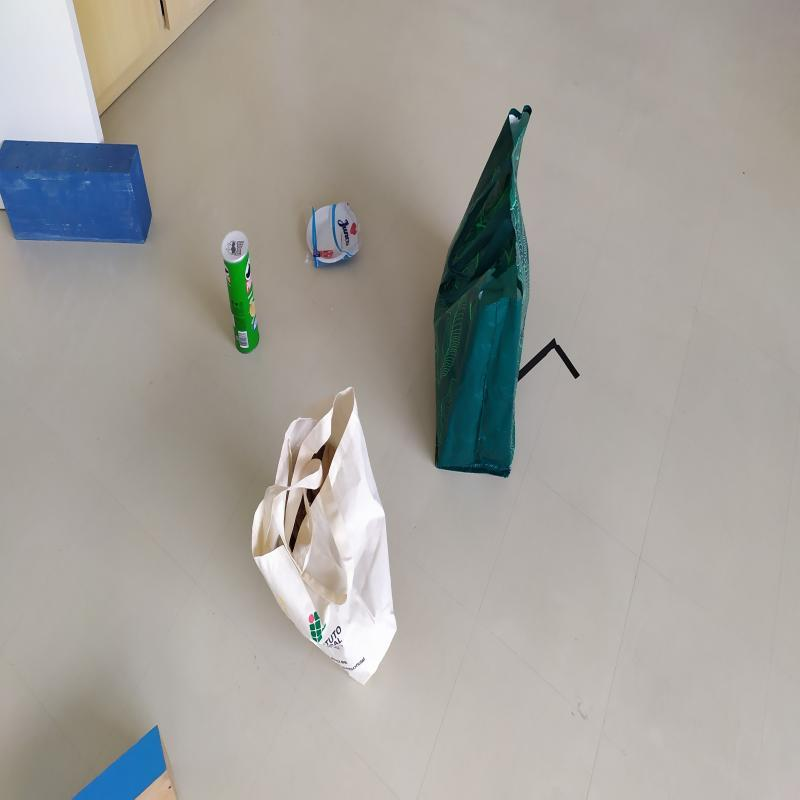Bag: (250, 384, 399, 688), (432, 103, 536, 480)
Plate: (305, 198, 360, 269)
Pringles: (221, 232, 263, 356)
